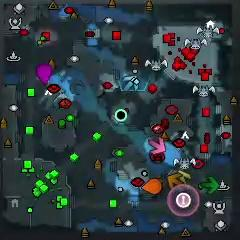Other: (176, 193, 191, 208)
p2Clone: (115, 109, 128, 122)
p3: (36, 63, 53, 85)
p5: (143, 178, 163, 195)
x1: (148, 136, 166, 155)
x2: (177, 168, 191, 185)
x3: (123, 74, 140, 93)
x4: (199, 176, 219, 194)
x5: (169, 173, 184, 189)
